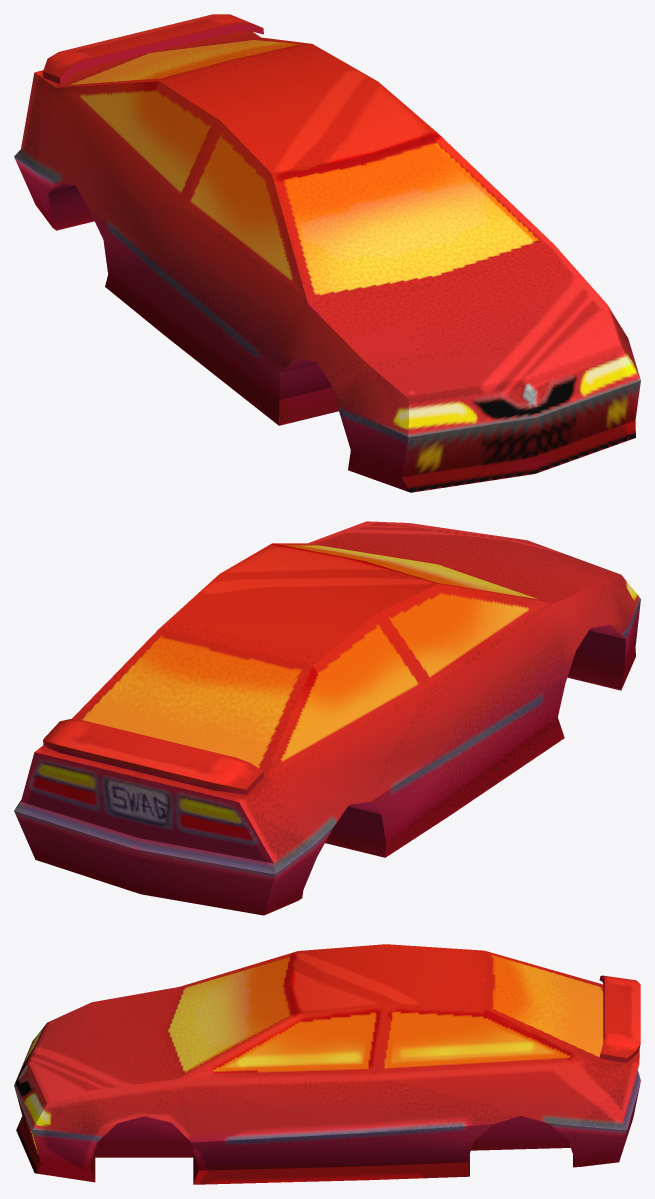
The model's file is laguna.fbx.
3 renders of one model, top to bottom at view 1: azimuth 30°, elevation 25°; view 2: azimuth 150°, elevation 25°; view 3: azimuth 270°, elevation 25°, orthographic. The views are drawn at different scales.
Visible parts, largest first — view 1: laguna; view 2: laguna; view 3: laguna.
Boxes of the visible parts, x1,y1,x2,y2 form: laguna: [14, 14, 640, 492]; laguna: [14, 521, 640, 915]; laguna: [14, 944, 640, 1184].
Bounding box in the file's own units: 328 × 218 × 792.
